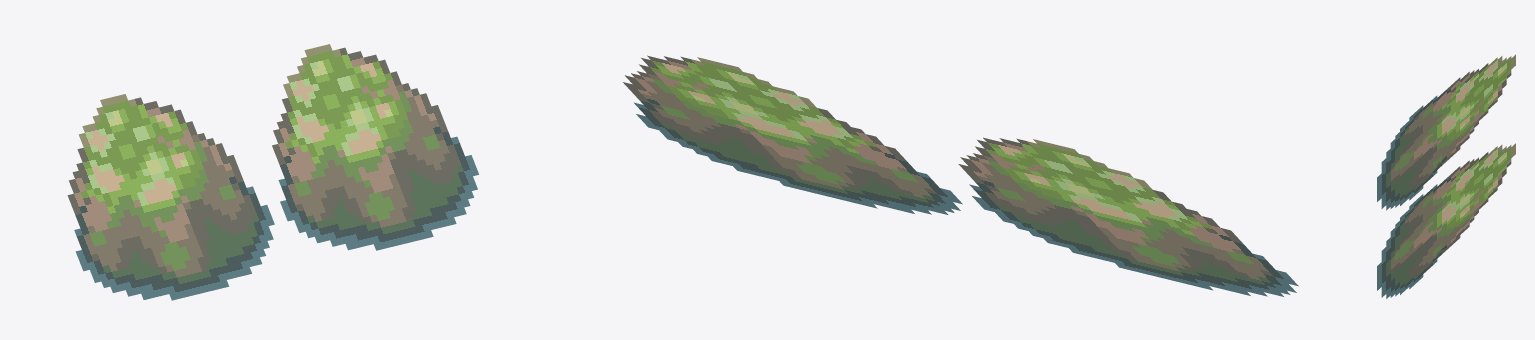
3 views of the same model, side by side, from view 1: azimuth 30°, elevation 25°; view 2: azimuth 150°, elevation 25°; view 3: azimuth 270°, elevation 25° (orthographic). The views are drawn at different scales.
Bounding box in the file's own units: 4 × 1.41 × 1.41.
1 material, 1 textured.
